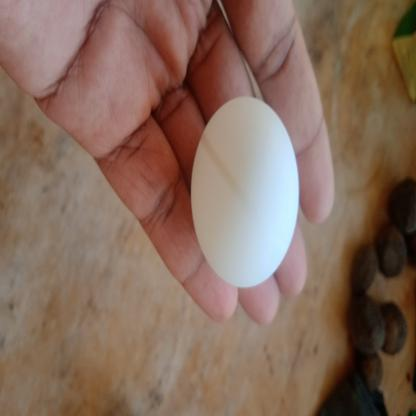Tabel Tennis: (188, 93, 302, 291)
